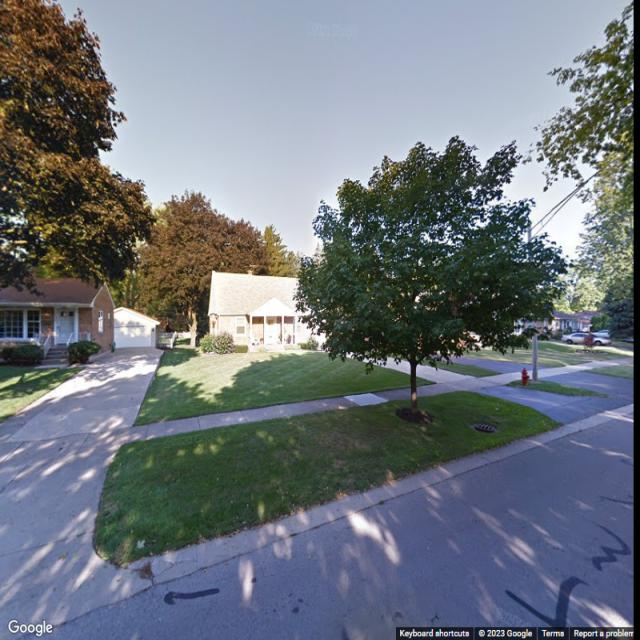House: (0, 279, 115, 366), (209, 270, 330, 350), (110, 304, 162, 350)
